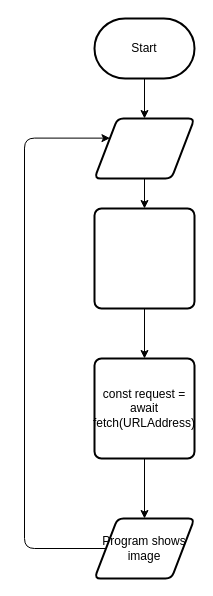
Some shapes in this 213 by 596 pixel diagram are drawn without their labels. The shapes that lost their labels are listed below. From the top down, each one's centre as x and y in pixels, then its label:
At point 144,148: "User refreshes website".
At point 144,258: "const getImage = async (URLAddress)".
